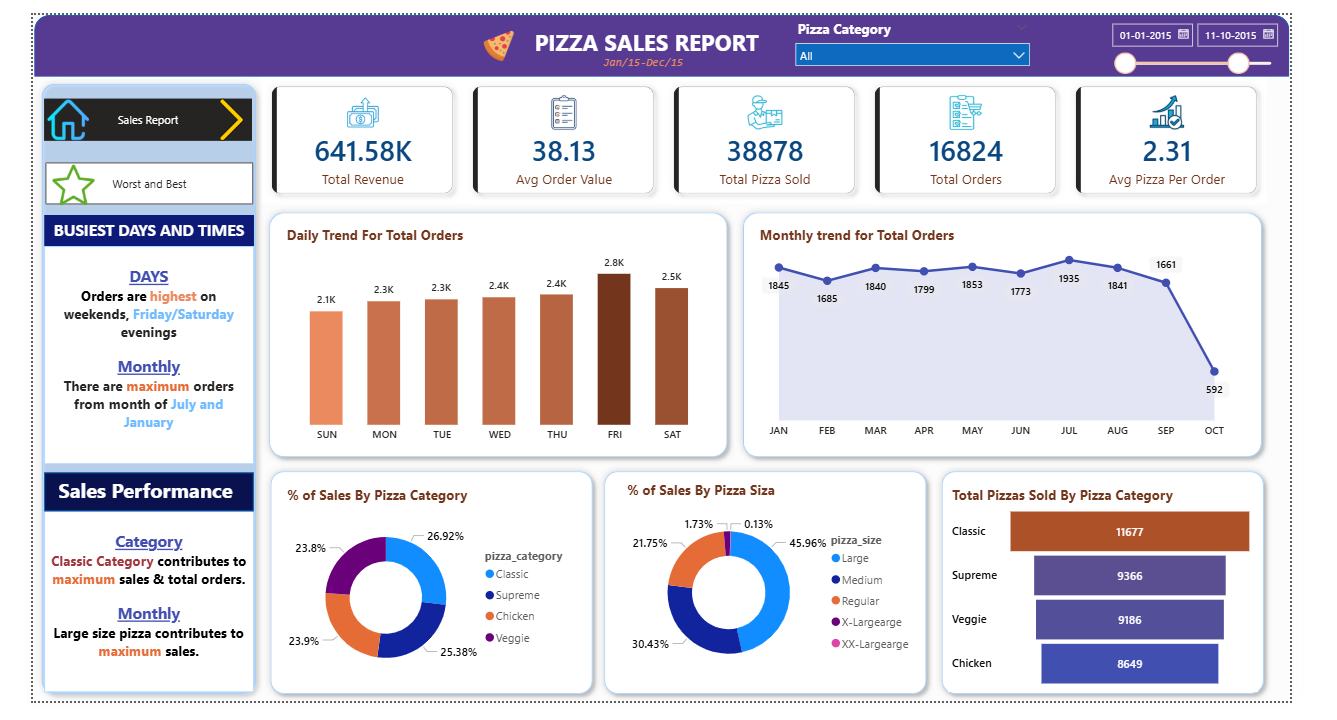

Layout of this report page (visuals, bound fields, positions):
{"tool":"powerbi","page":{"name":"Home","canvas":[1500,820],"ordinal":0},"visuals":[{"type":"cardVisual","fields":{"Data":["pizza_sales.Totatalprice","pizza_sales.AvgOrder","pizza_sales.TotalPizzaSold","pizza_sales.TotalOrder","pizza_sales.AvgPizzaPerOrder"]},"box":[273.8,73.8,1202.5,152.5],"z":0},{"type":"shape","box":[1.2,0,1498.8,73.8],"z":1000},{"type":"textbox","box":[593.8,8.8,288.8,50],"z":2000},{"type":"textbox","box":[676.2,42.5,125,31.2],"z":3000},{"type":"image","box":[537.5,15,37.5,43.8],"z":4000},{"type":"shape","box":[273.8,226.2,565,310],"z":5000},{"type":"columnChart","title":"Daily Trend For Total Orders","fields":{"Category":["pizza_sales.OrderDay"],"Y":["pizza_sales.TotalOrder"]},"box":[302.5,250,508.8,263.8],"z":6000},{"type":"shape","box":[838.8,227.5,637.5,310],"z":7000},{"type":"areaChart","title":"Monthly trend for Total Orders","fields":{"Category":["pizza_sales.OrderMonth"],"Y":["pizza_sales.TotalOrder"]},"box":[862.5,250,576.2,263.8],"z":8000},{"type":"shape","box":[673.8,536.2,402.5,283.8],"z":9000},{"type":"shape","box":[1076.2,536.2,402.5,283.8],"z":10000},{"type":"shape","box":[275,536.2,402.5,283.8],"z":11000},{"type":"donutChart","title":"% of Sales By Pizza Category","fields":{"Category":["pizza_sales.pizza_category"],"Y":["pizza_sales.Totatalprice"]},"box":[298.8,561.2,355,247.5],"z":12000},{"type":"donutChart","title":"% of Sales By Pizza Siza","fields":{"Y":["pizza_sales.Totatalprice"],"Category":["pizza_sales.pizza_size"]},"box":[705,555,355,247.5],"z":13000},{"type":"funnel","title":"Total Pizzas Sold By Pizza Category","fields":{"Y":["pizza_sales.TotalPizzaSold"],"Category":["pizza_sales.pizza_category"]},"box":[1092.5,561.2,370,247.5],"z":14000},{"type":"shape","box":[1.2,73.8,273.8,746.2],"z":15000},{"type":"textbox","box":[13.8,238.8,250,37.5],"z":16000},{"type":"textbox","box":[13.8,276.2,250,260],"z":17000},{"type":"textbox","box":[13.8,592.5,250,216.2],"z":18000},{"type":"shape","box":[13.8,546.2,250,46.2],"z":19000},{"type":"textbox","box":[25,546.2,237.5,50],"z":20000},{"type":"slicer","fields":{"Values":["pizza_sales.order_date"]},"box":[1276.6,0,223.4,73.4],"z":21000},{"type":"slicer","fields":{"Values":["pizza_sales.pizza_category"]},"box":[900,0,300,73.8],"z":22000},{"type":"pageNavigator","box":[15.6,176.6,248.4,50],"z":26000},{"type":"pageNavigator","box":[14.1,100,248.4,50],"z":27000},{"type":"image","box":[212.5,100,50,50],"z":27500},{"type":"image","box":[15.6,100,54.7,50],"z":28000},{"type":"image","box":[0,178.1,96.9,50],"z":28500}]}

Visuals, with their boxes in screenshot pixels (x1, y1, x2, y2), scaled from the page's 1500x820 canvas onto the 1337x720 screenshot:
cardVisual - pizza_sales.Totatalprice x pizza_sales.AvgOrder: l=244, t=65, r=1316, b=199
shape: l=1, t=0, r=1336, b=65
textbox: l=529, t=8, r=787, b=52
textbox: l=603, t=37, r=714, b=65
image: l=479, t=13, r=513, b=52
shape: l=244, t=199, r=748, b=471
"Daily Trend For Total Orders" columnChart: l=270, t=220, r=723, b=451
shape: l=748, t=200, r=1316, b=472
"Monthly trend for Total Orders" areaChart: l=769, t=220, r=1282, b=451
shape: l=601, t=471, r=959, b=719
shape: l=959, t=471, r=1318, b=719
shape: l=245, t=471, r=604, b=719
"% of Sales By Pizza Category" donutChart: l=266, t=493, r=583, b=710
"% of Sales By Pizza Siza" donutChart: l=628, t=487, r=945, b=705
"Total Pizzas Sold By Pizza Category" funnel: l=974, t=493, r=1304, b=710
shape: l=1, t=65, r=245, b=719
textbox: l=12, t=210, r=235, b=243
textbox: l=12, t=243, r=235, b=471
textbox: l=12, t=520, r=235, b=710
shape: l=12, t=480, r=235, b=520
textbox: l=22, t=480, r=234, b=523
slicer - pizza_sales.order_date: l=1138, t=0, r=1336, b=64
slicer - pizza_sales.pizza_category: l=802, t=0, r=1070, b=65
pageNavigator: l=14, t=155, r=235, b=199
pageNavigator: l=13, t=88, r=234, b=132
image: l=189, t=88, r=234, b=132
image: l=14, t=88, r=63, b=132
image: l=0, t=156, r=86, b=200
